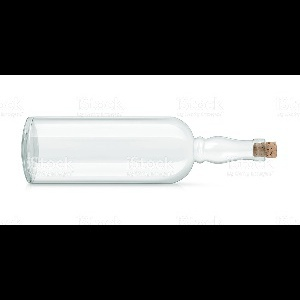emptybottle: (21, 117, 279, 184)
